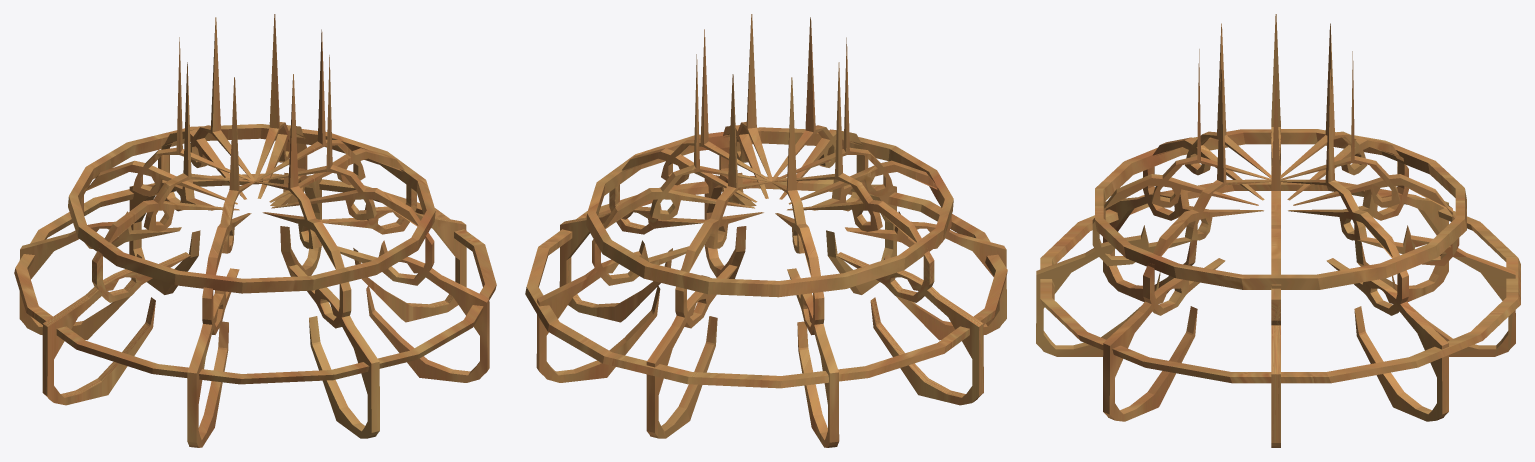
Rendered from CEILINGDECORATION_SOLIDGOLD.fbx.
3 views of the same model, side by side, from view 1: azimuth 30°, elevation 25°; view 2: azimuth 150°, elevation 25°; view 3: azimuth 270°, elevation 25° (orthographic).
Parts seen in each view (by area): view 1: Mesh1; view 2: Mesh1; view 3: Mesh1.
Part boxes in pixels (x1=…): Mesh1: x1=14, y1=14, x2=496, y2=447; Mesh1: x1=525, y1=14, x2=1007, y2=447; Mesh1: x1=1036, y1=14, x2=1520, y2=447.
Size of the model in its own units: 150 by 107 by 152.
